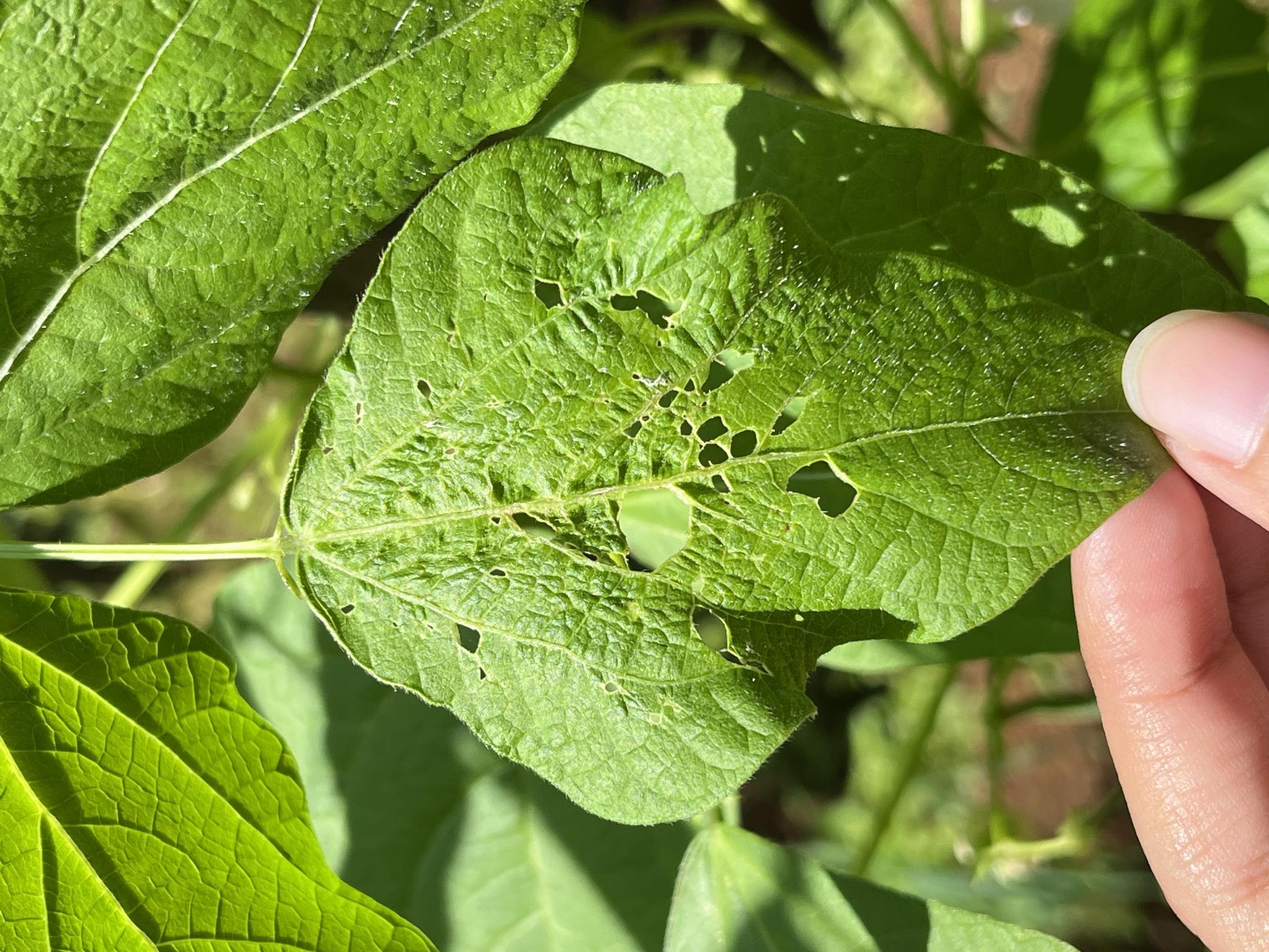mozaik: (510, 266, 898, 566)
